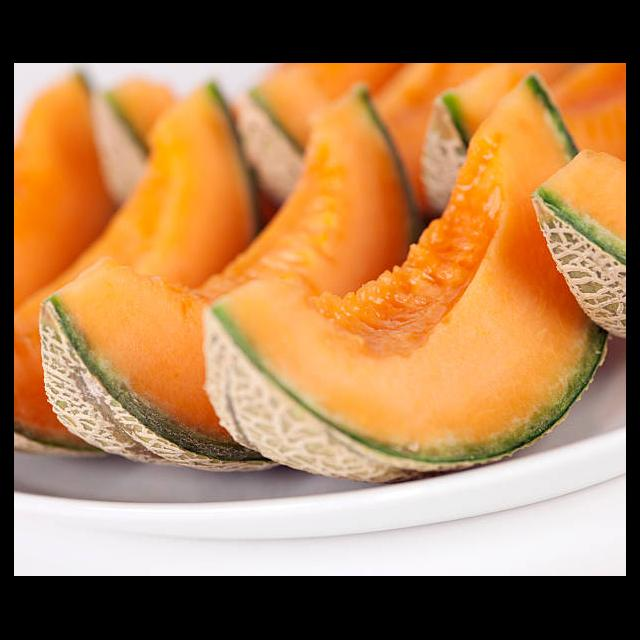Hami Melon: (203, 74, 610, 486), (41, 84, 416, 471)
